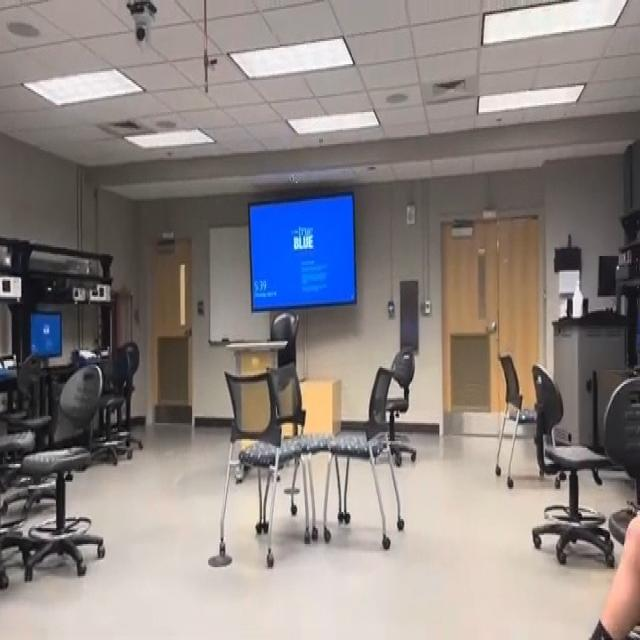drone: (281, 171, 310, 197)
